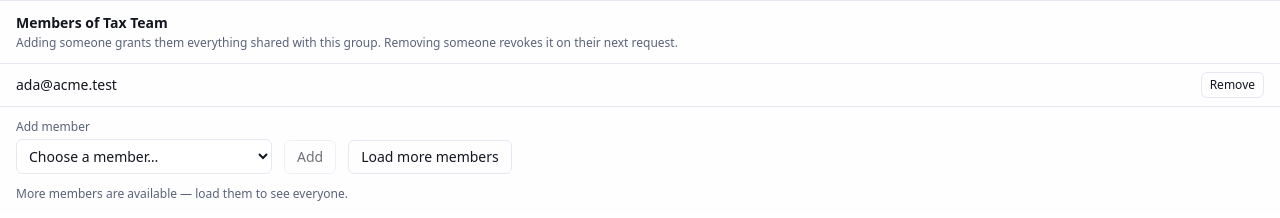
Test: GroupMembersSection › blocks member writes when the ROSTER read is refused, even with a page cached
Check: the text "ada@acme.test" is shown, box top-left (16, 75), bottom-right (117, 95)
Click the button "Load more members": x=430, y=157 top-left (348, 140), bottom-right (512, 174)
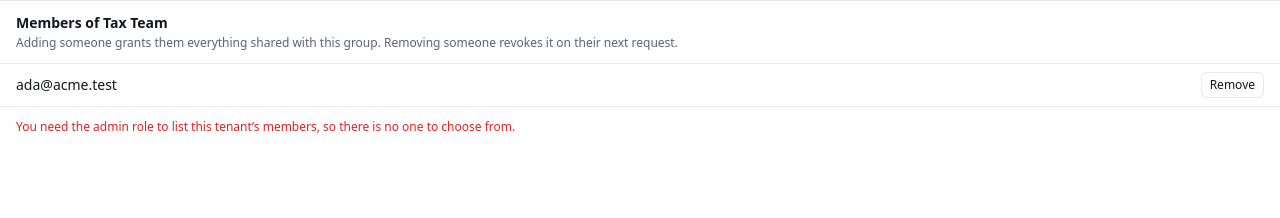
Check: the text "need the admin role to list this tenant’s members" is shown, box top-left (16, 118), bottom-right (515, 135)
